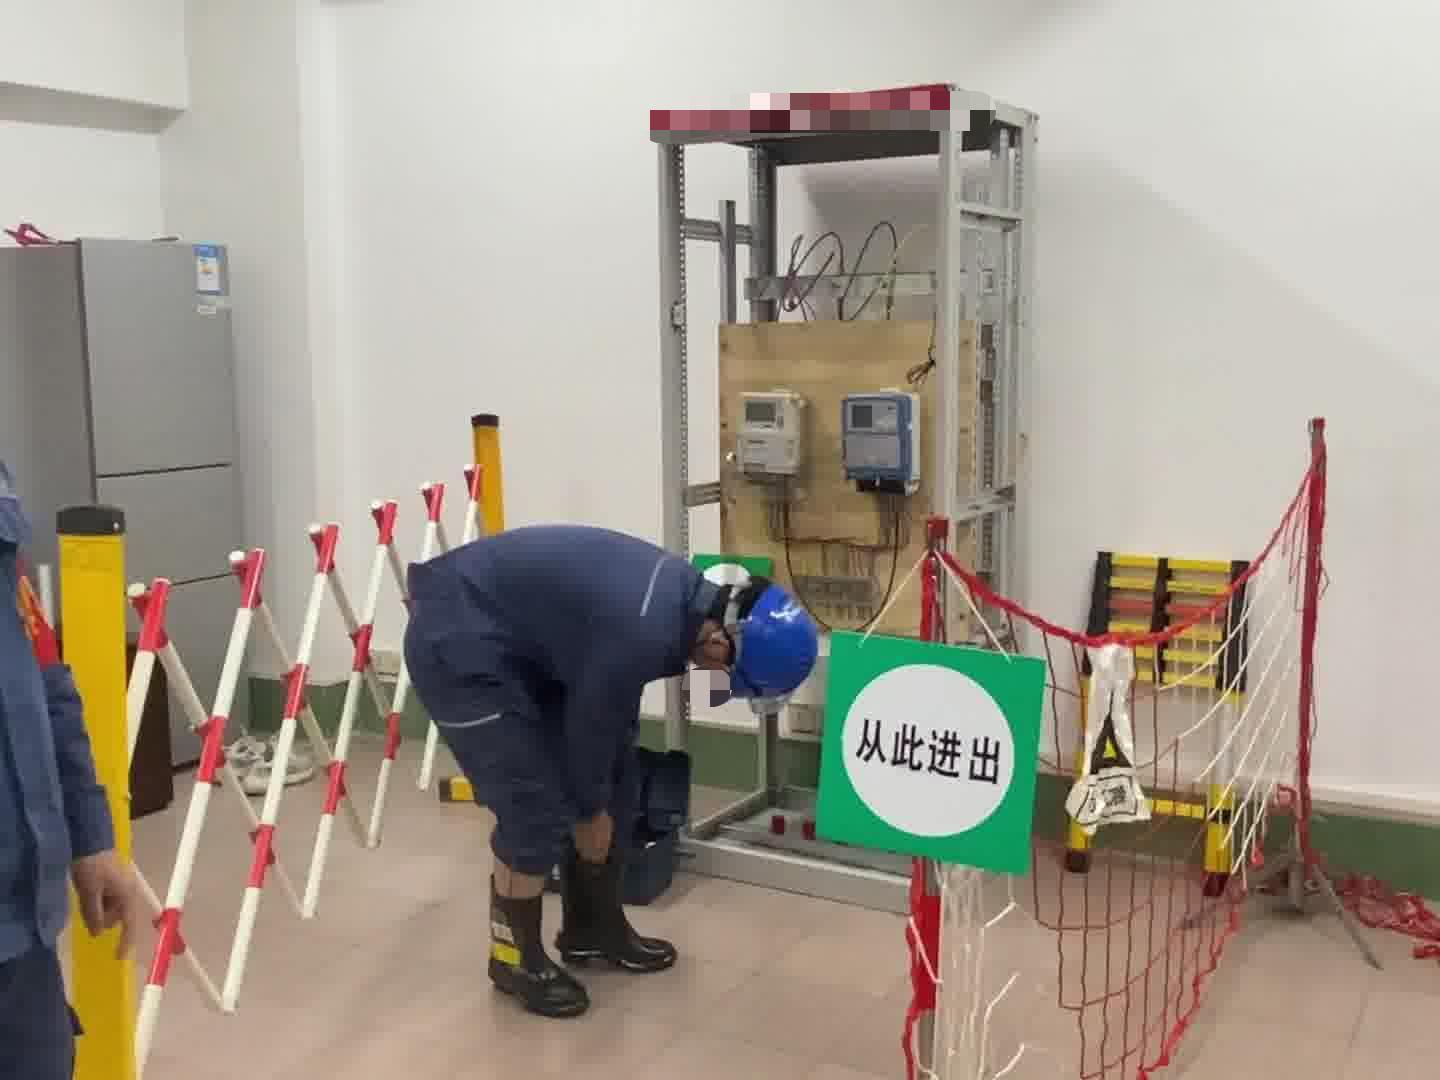halt: (708, 584, 825, 712)
